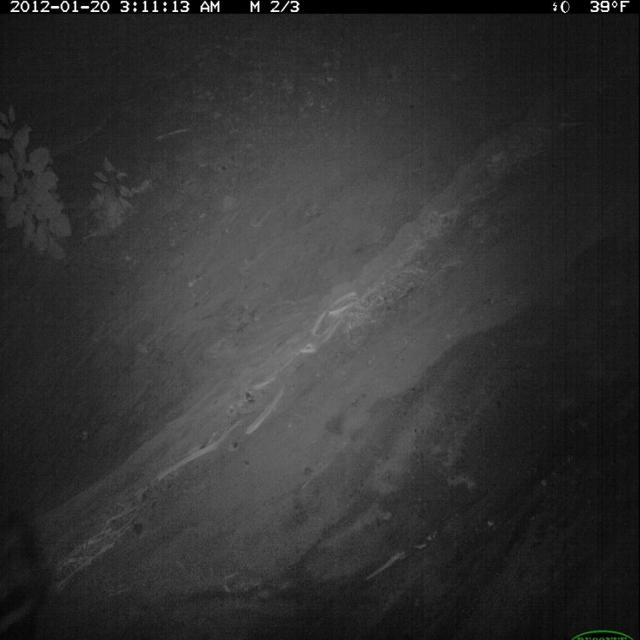skunk: (2, 512, 54, 640)
